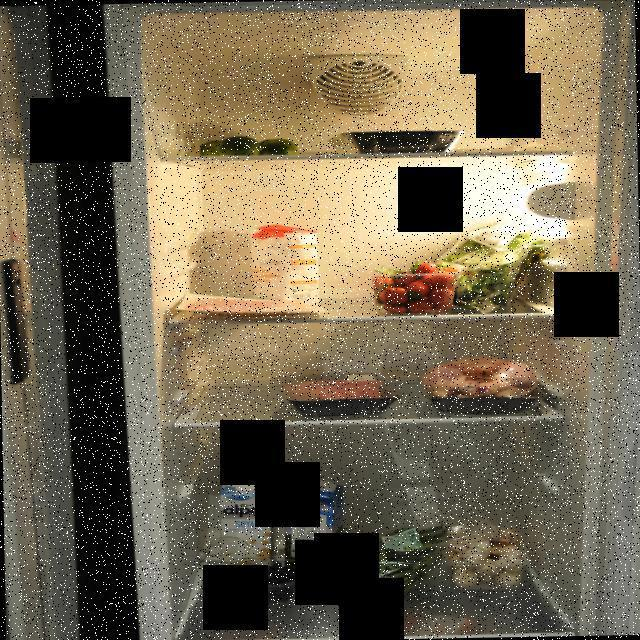Beans: (340, 518, 456, 600)
Beef: (280, 370, 390, 408)
Berries strawberries/blueberries: (366, 256, 462, 316), (222, 558, 297, 602)
Chicken: (418, 350, 548, 414)
Ham: (185, 292, 313, 318)
Lime: (197, 134, 297, 158)
Milk carton/jug: (283, 474, 346, 584), (217, 473, 280, 572)
Mushroom: (436, 512, 526, 588)
Spinach bagged/loose: (431, 221, 552, 314)
Sugar: (248, 222, 322, 312)
